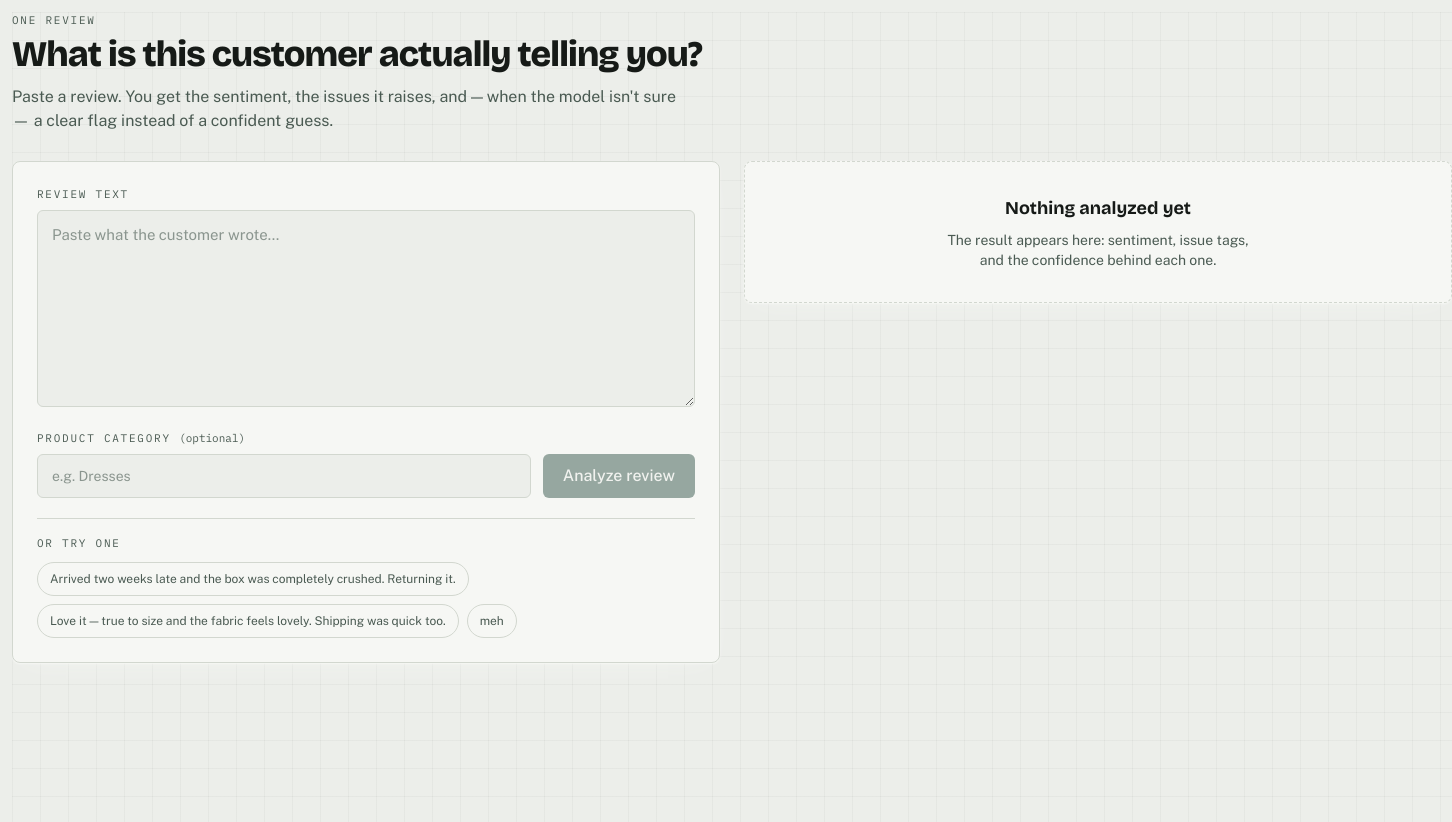
it: Analyzer › fills the textarea from a sample
The width and height of the screenshot is (1452, 822).
What coordinates should you click on to do the following:
click the button "meh"
I would click on:
 (492, 621)
Its box is [467,604,517,638].
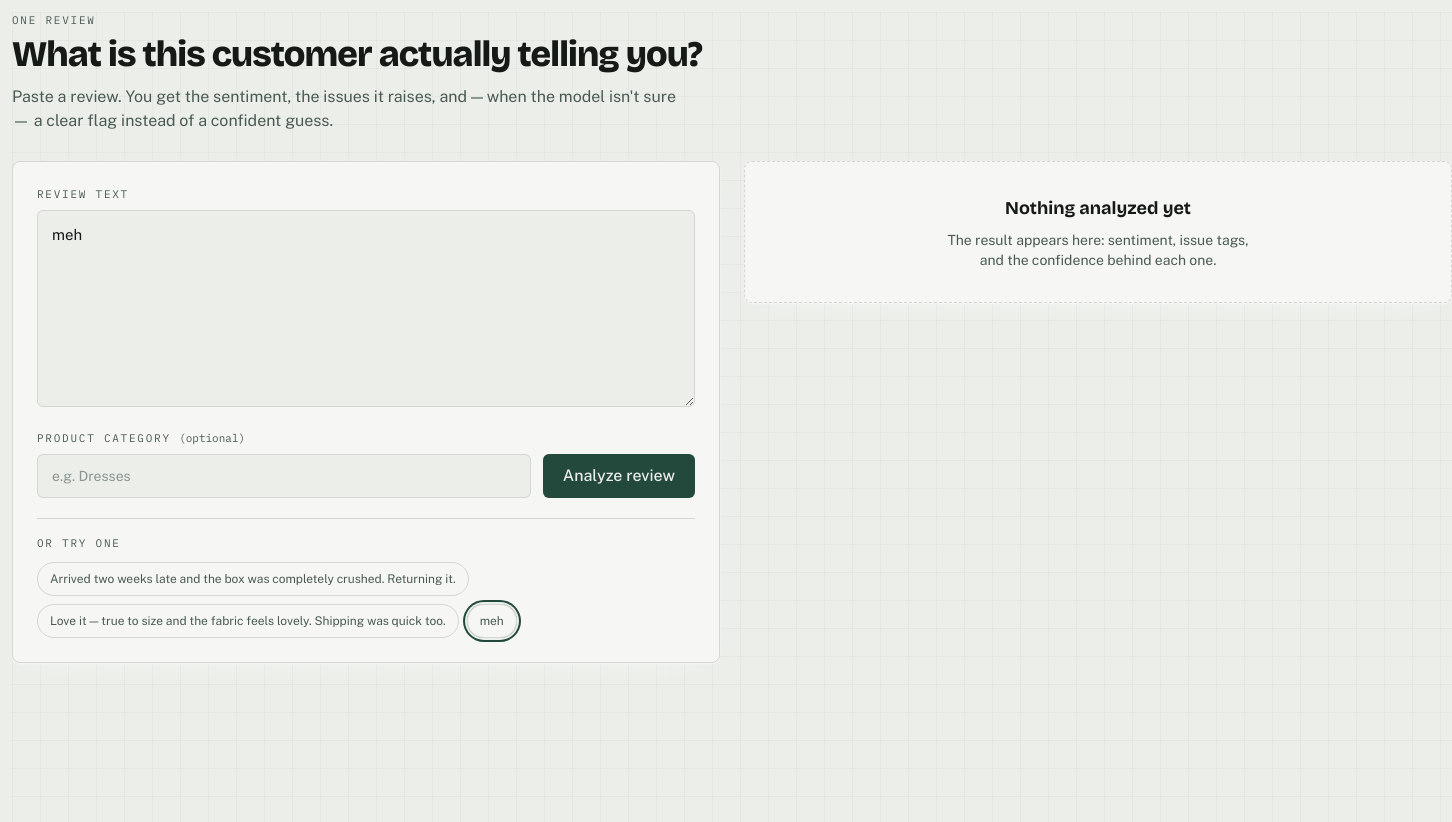
Now the text box labelled "Review text" holds "meh", box [37,210,695,407]
